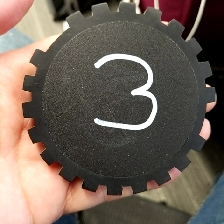gear: (20, 1, 217, 197)
missing: (29, 10, 84, 71), (189, 85, 217, 154)
